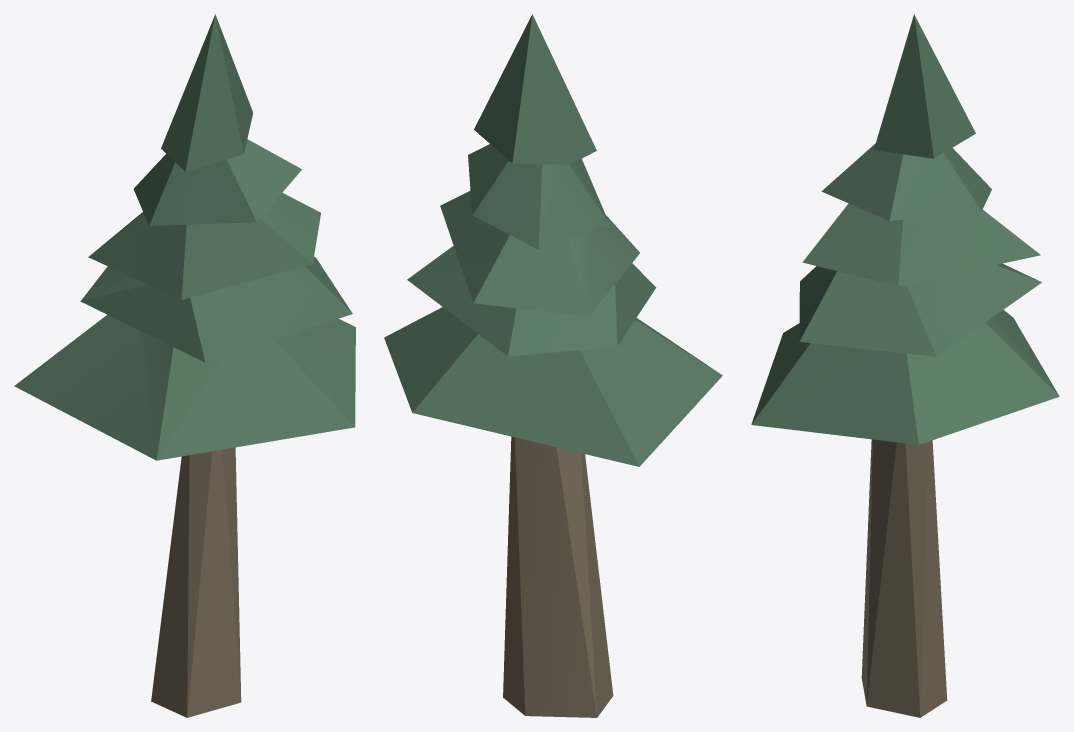
The model's file is Tree_Pine_Tall_01.fbx.
The picture shows the model from 3 angles, left to right: view 1: azimuth 30°, elevation 25°; view 2: azimuth 150°, elevation 25°; view 3: azimuth 270°, elevation 25°; orthographic projection. The views are drawn at different scales.
Parts seen in each view (by area): view 1: Model; view 2: Model; view 3: Model.
Part boxes in pixels (left/top/right/bottom): Model: left=14, top=14, right=355, bottom=717; Model: left=384, top=14, right=722, bottom=717; Model: left=751, top=14, right=1059, bottom=717.
Bounding box in the file's own units: 288 × 627 × 254.
